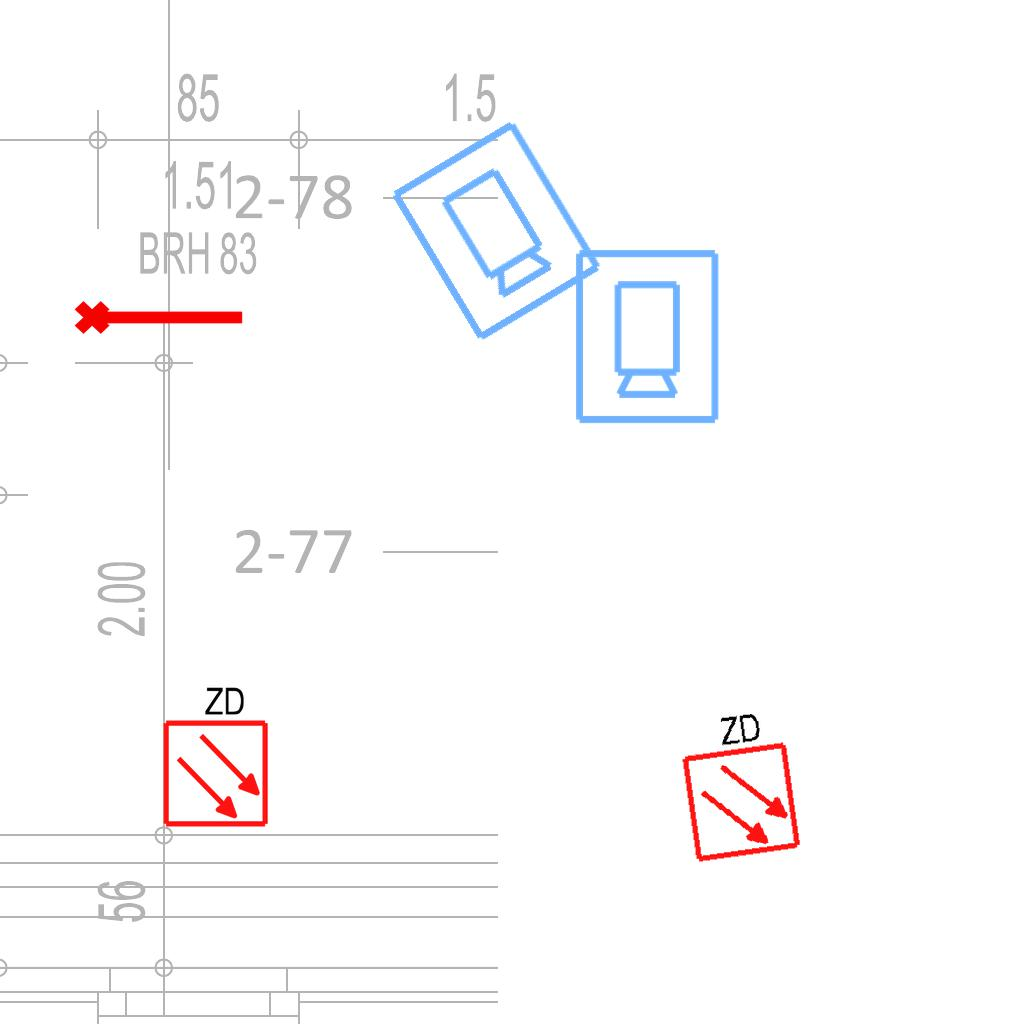ASR_Ansaugoeffnung: (72, 292, 248, 338)
KFO_Kamera_mit_Festobjektiv: (382, 113, 608, 349), (569, 245, 723, 427)
ZD_Melder_in_Zwischendecke_mit_Revisionsoeffnung_mind_40_x_40_cm: (670, 701, 804, 866), (157, 680, 271, 829)
